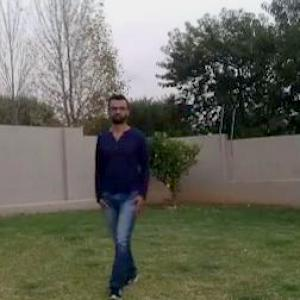follow: (100, 99, 145, 280)
